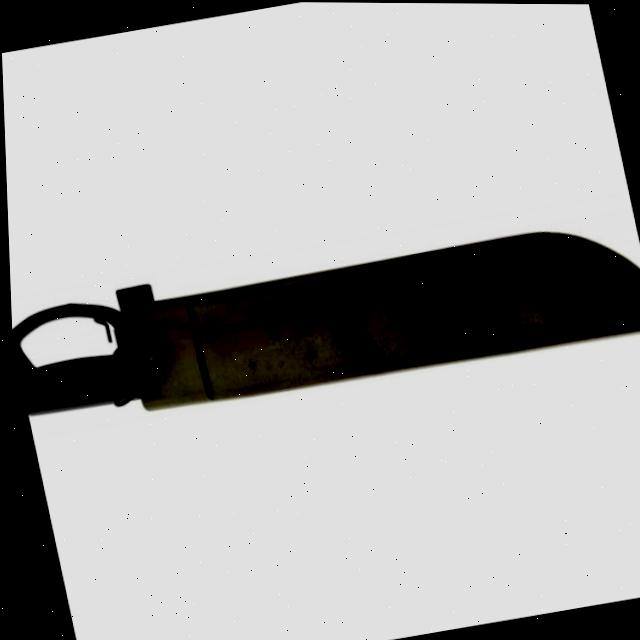long knife: (5, 176, 640, 476)
